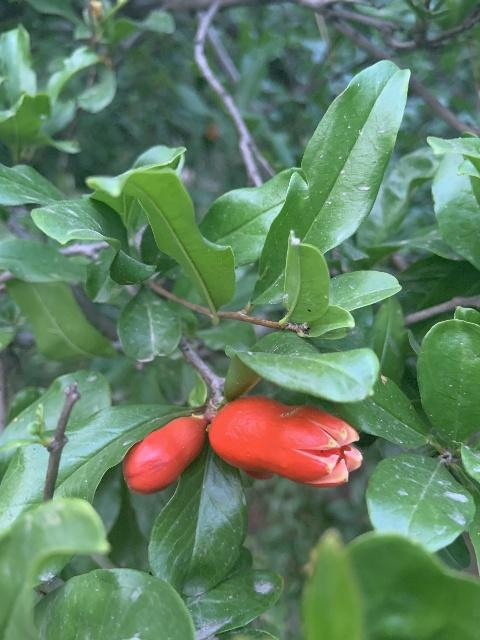bud: (122, 415, 206, 495)
flower: (210, 395, 363, 487)
